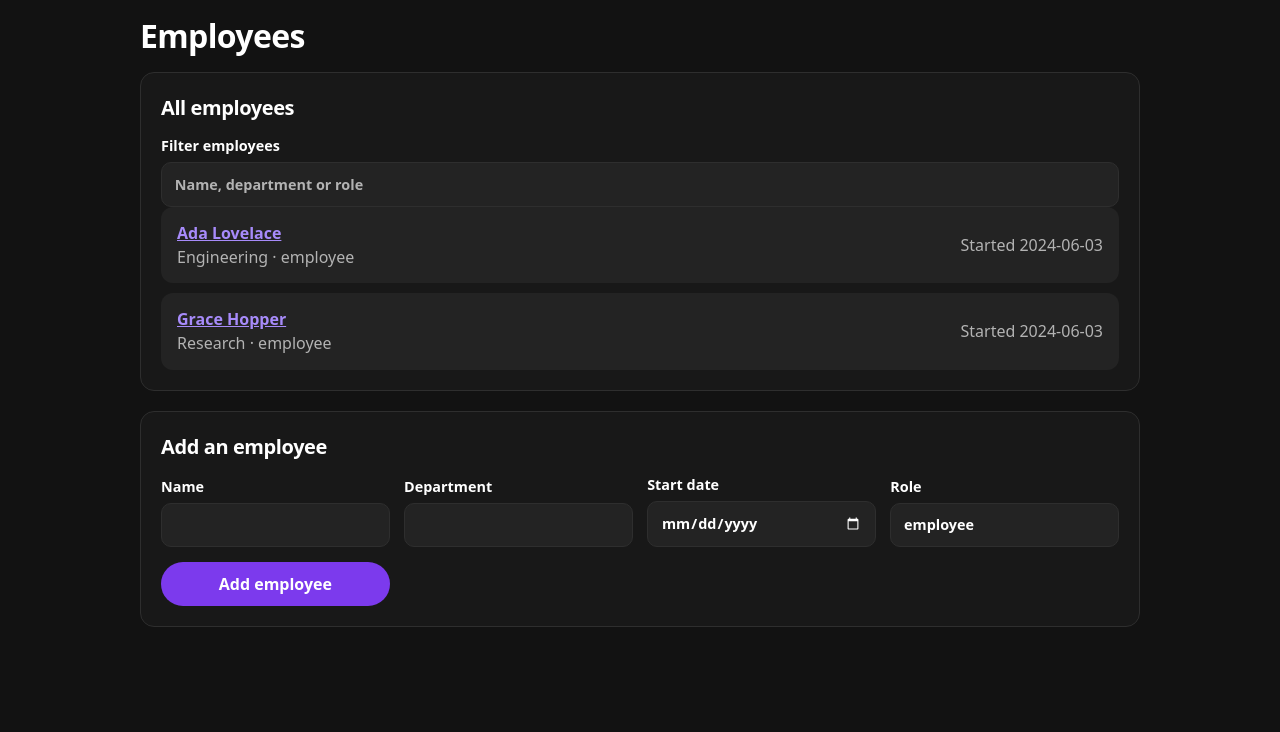
EmployeesPage › lists employees and filters them by text
Check: the list item with test id "employee-row-e1" shows "Ada Lovelace", box [177,222,281,244]
Check: the list item with test id "employee-row-e2" is shown, box [161,293,1119,370]
Type "research" into the search field with test id "employee-filter" at (640, 184), box [161,162,1119,207]
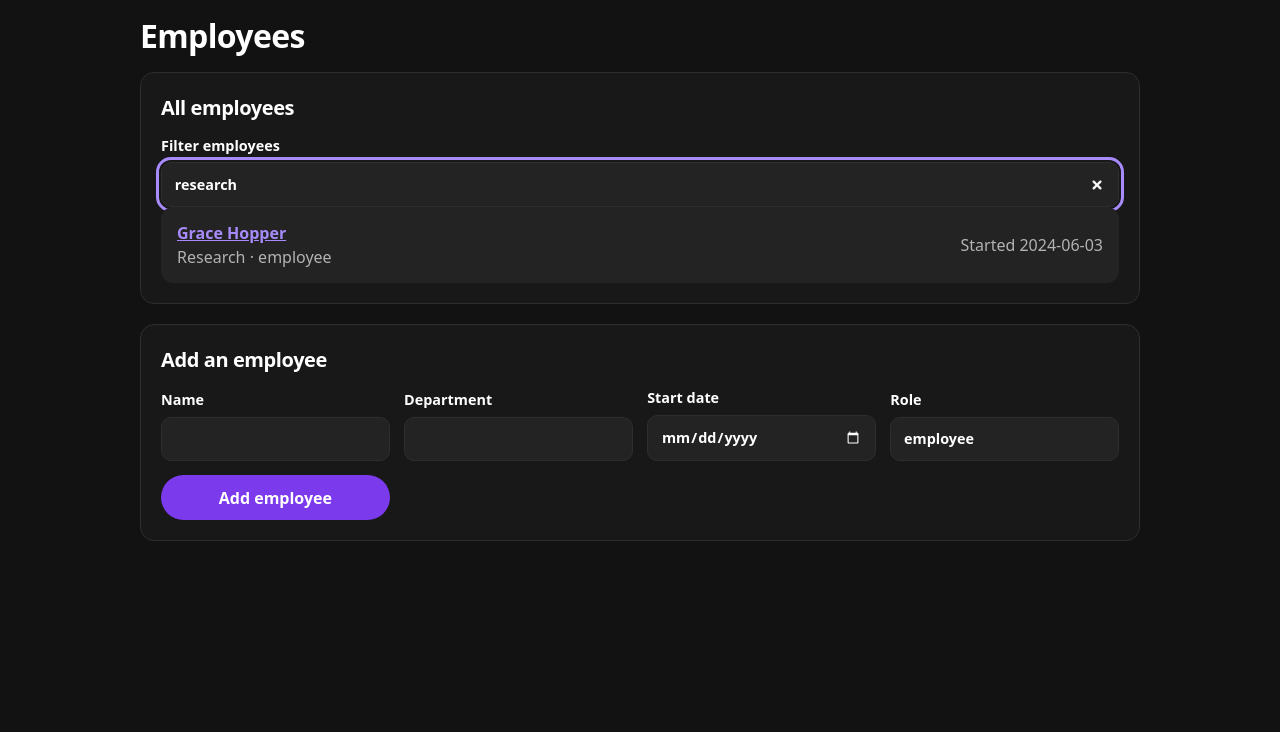
Check: the list item with test id "employee-row-e2" is shown, box [161,207,1119,283]
Check: the list item with test id "employee-row-e1" is gone
